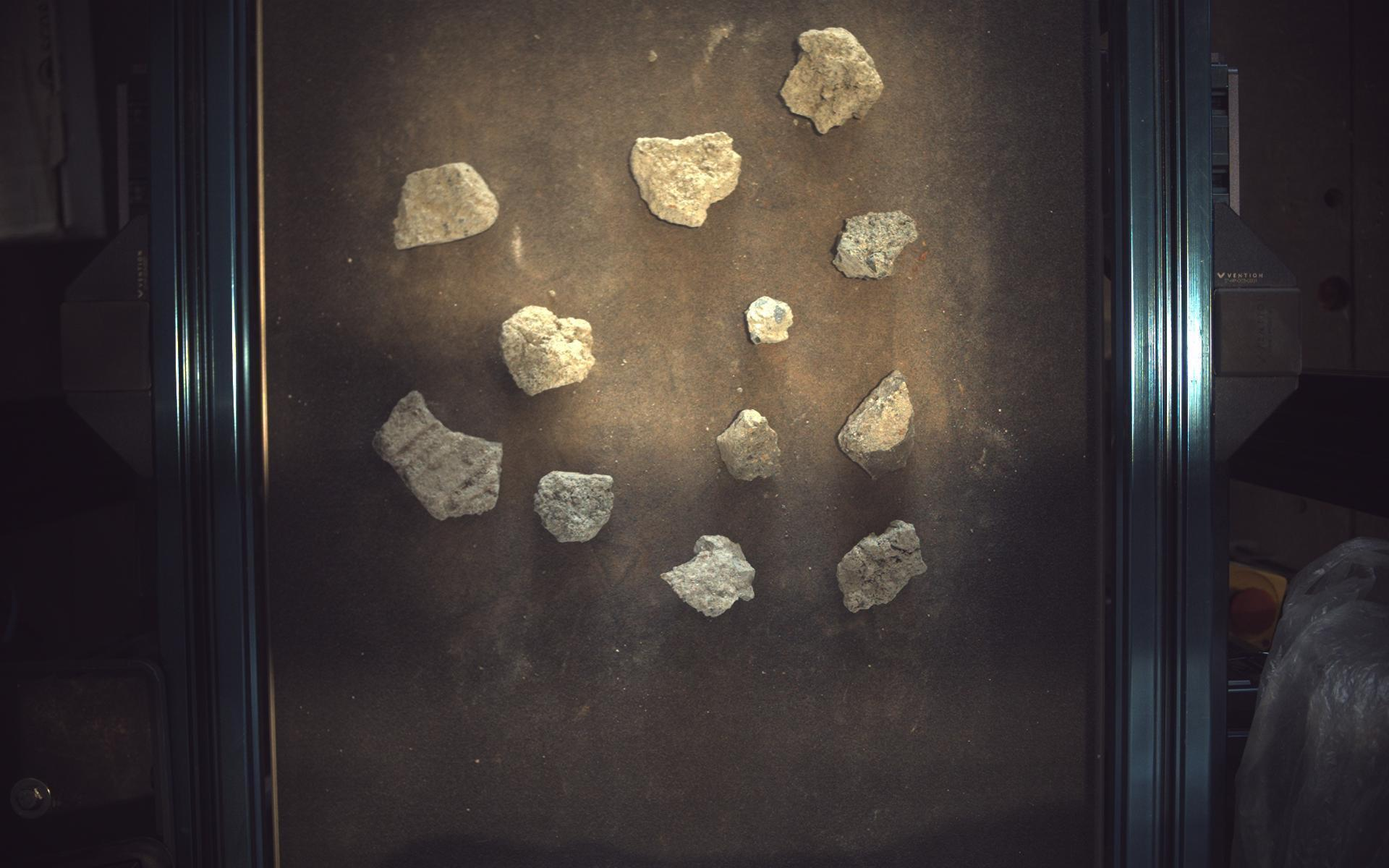concrete: (373, 391, 503, 521), (782, 26, 885, 133), (631, 131, 743, 226), (394, 161, 498, 249), (500, 305, 596, 396), (839, 370, 916, 480), (838, 520, 928, 613), (662, 535, 757, 618), (834, 210, 919, 278), (535, 472, 615, 543), (718, 409, 782, 481), (747, 296, 794, 344)
